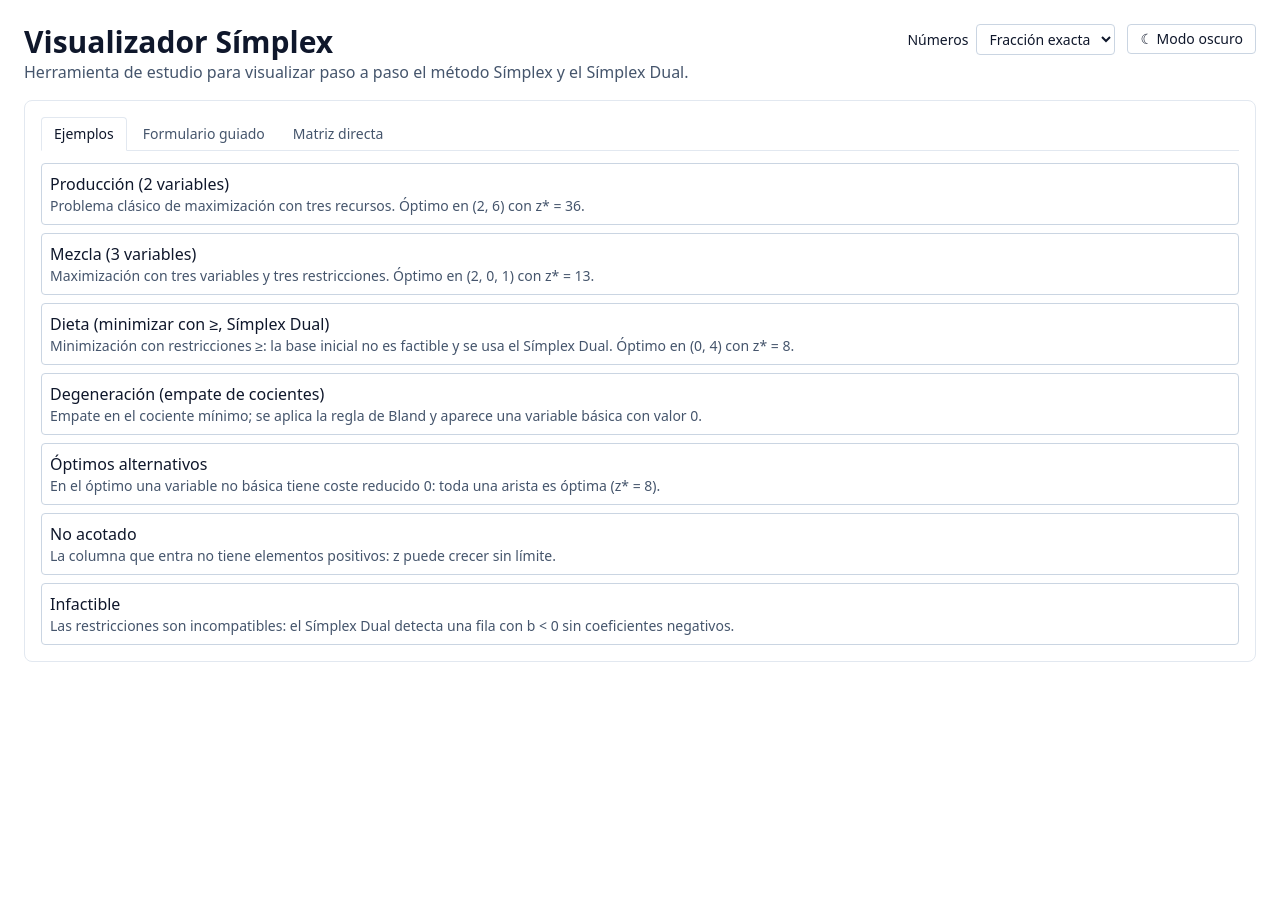
Test: App › importa una matriz desde la pestaña Matriz directa y avisa de errores
Click the tab "Matriz directa": (338, 134) [281,117,395,151]
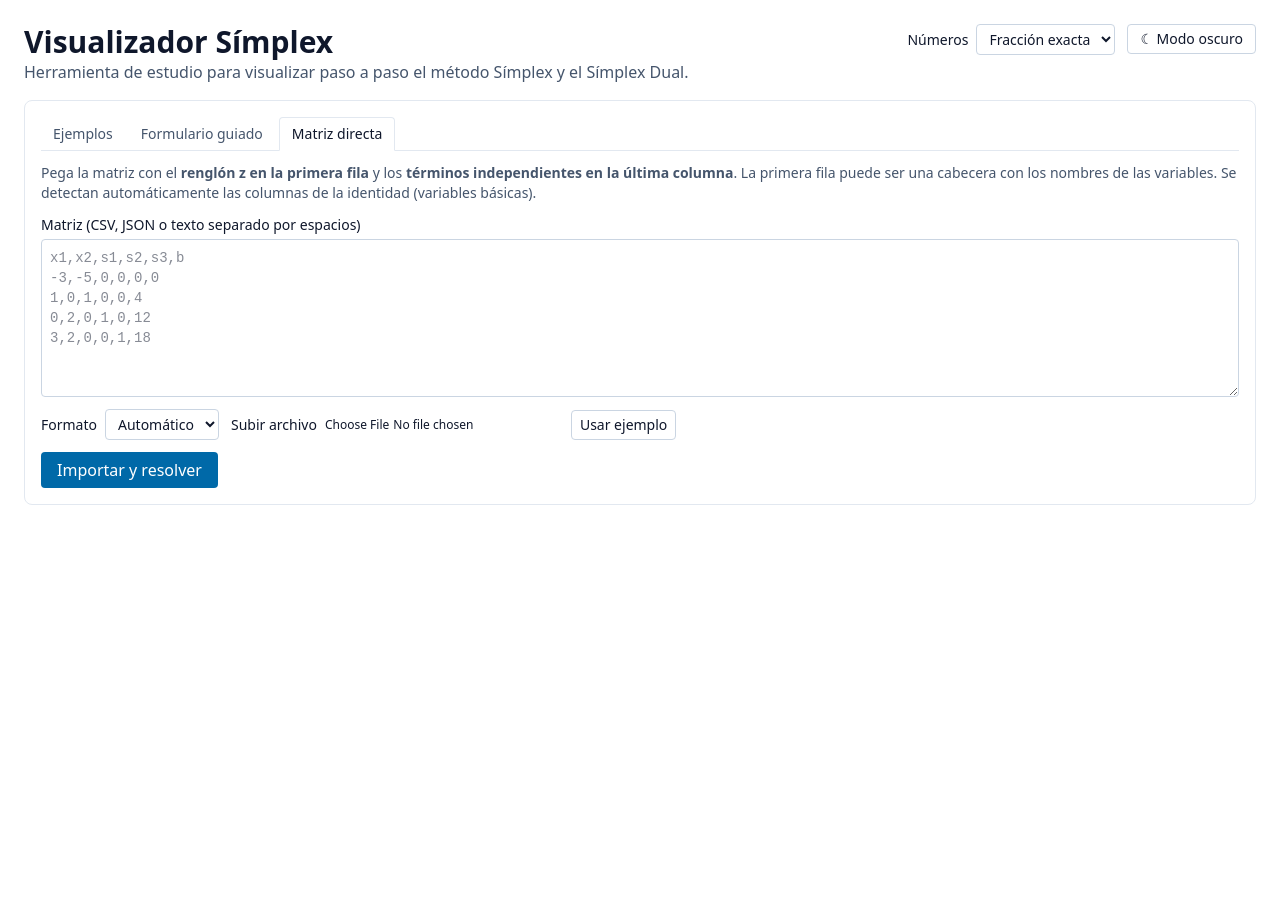
Click the button "Importar y resolver": (129, 470) [41,452,218,488]
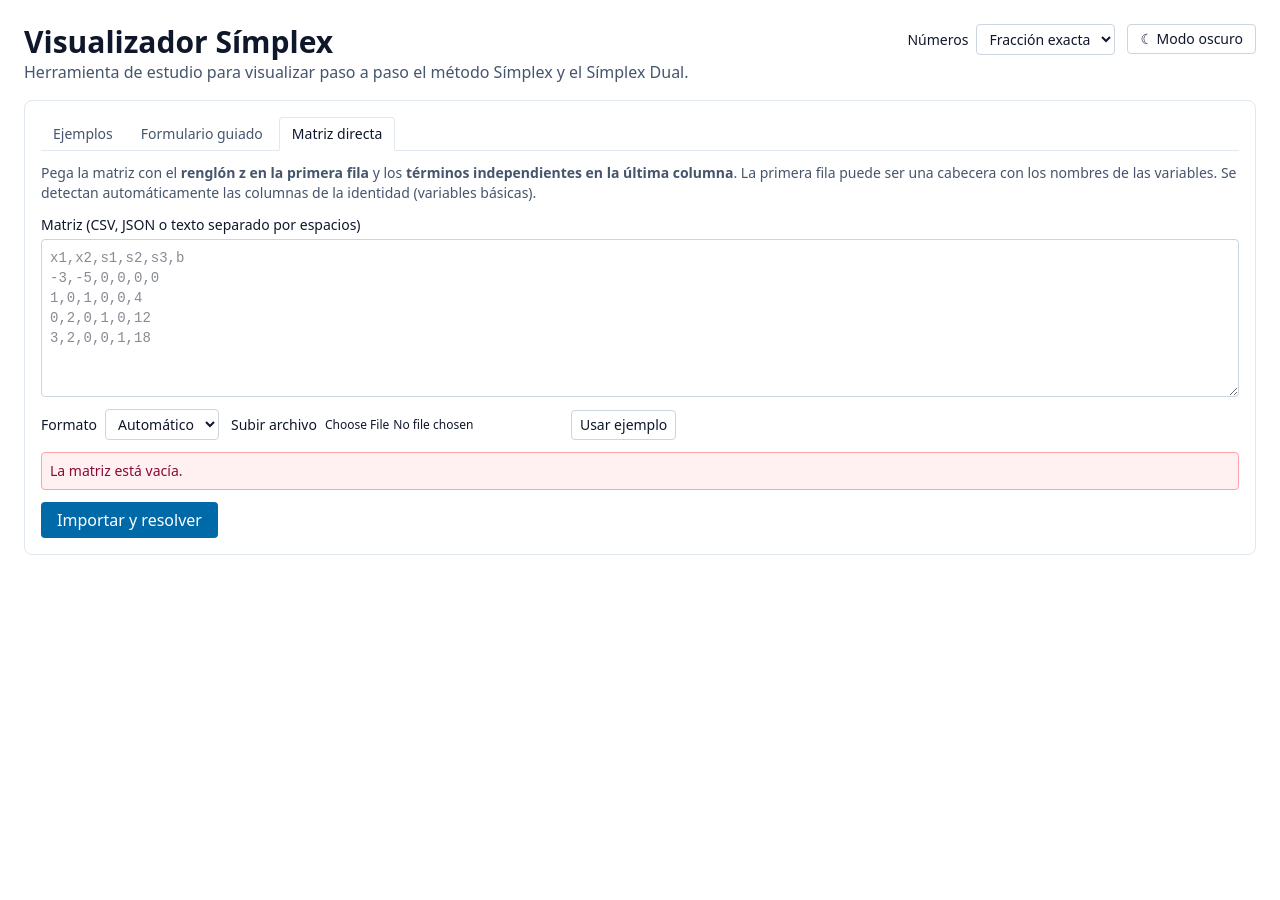
Expected: the message "La matriz está vacía." is shown, [41,452,1239,490]
Click the button "Usar ejemplo": (624, 424) [571,410,676,440]
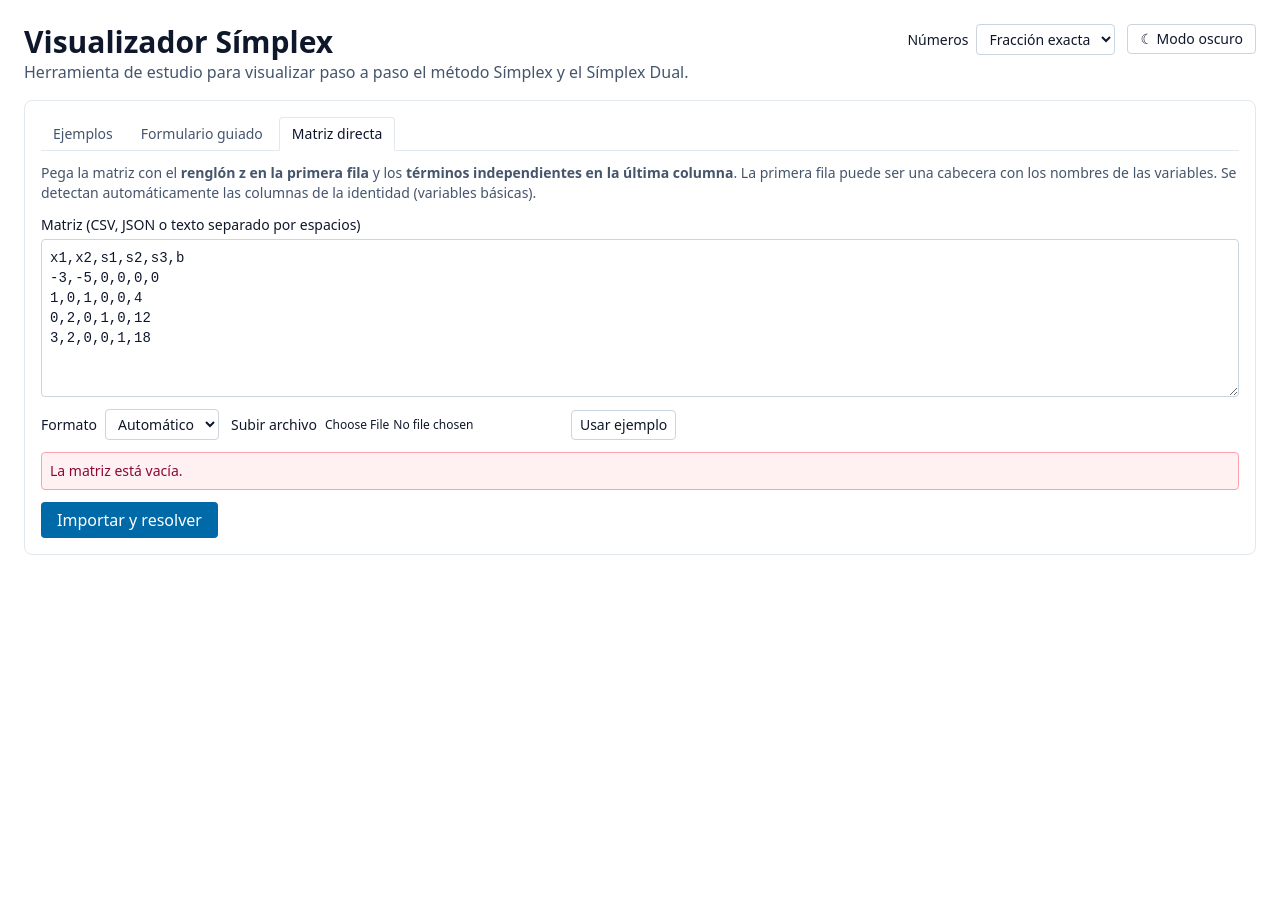
Click the button "Importar y resolver": (129, 520) [41,502,218,538]
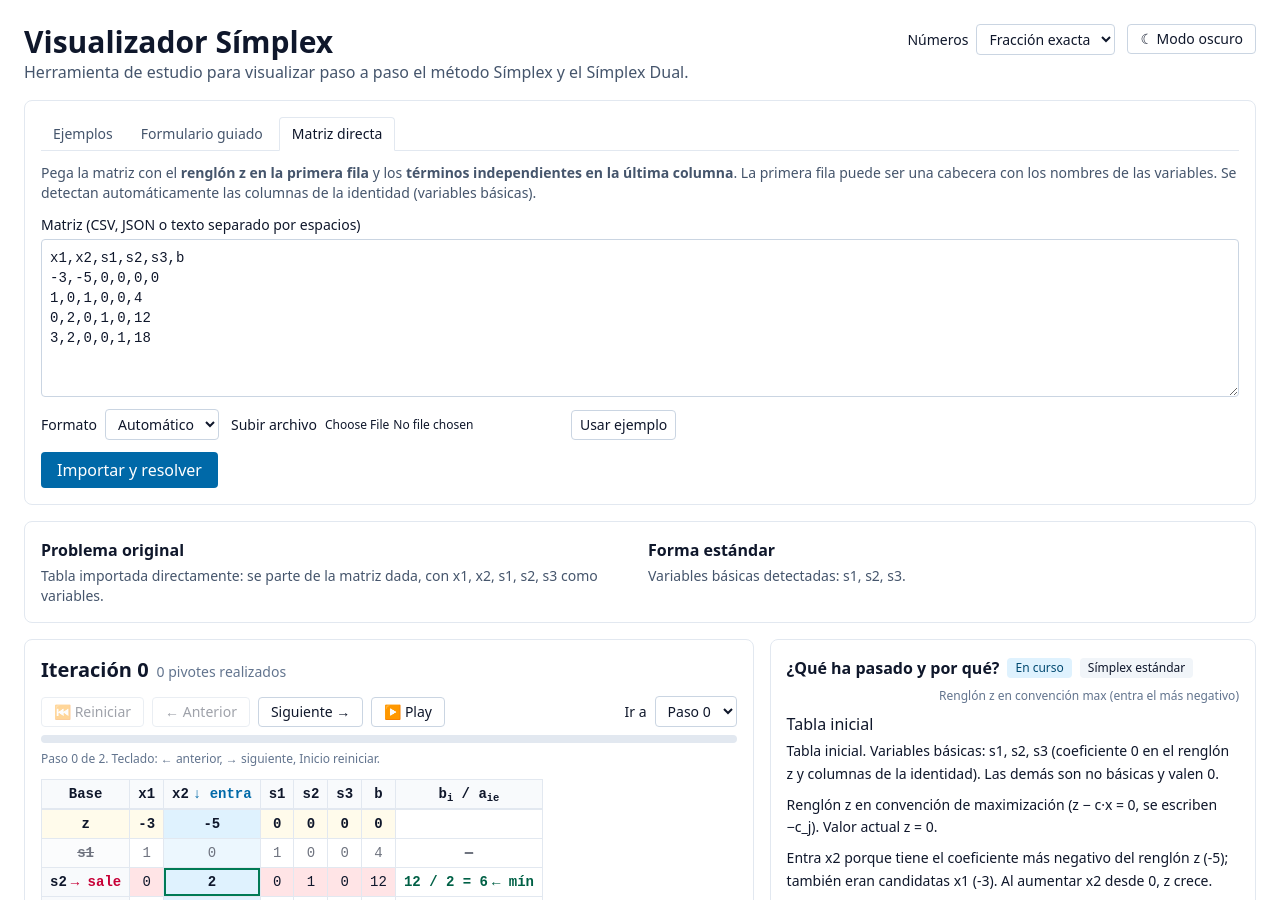
Expected: the message "La matriz está vacía." is gone
Expected: the text "Tabla importada directamente" is shown, [41,566,449,585]
Expected: the heading "Iteración 0" is shown, [41,656,149,684]
